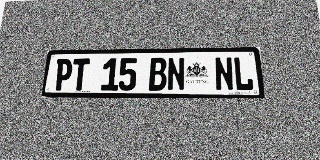1: (101, 58, 120, 91)
5: (118, 58, 137, 91)
B: (149, 58, 167, 91)
L: (233, 57, 254, 91)
N: (214, 57, 234, 91), (167, 57, 185, 91)
P: (53, 59, 73, 91)
T: (71, 58, 90, 91)
